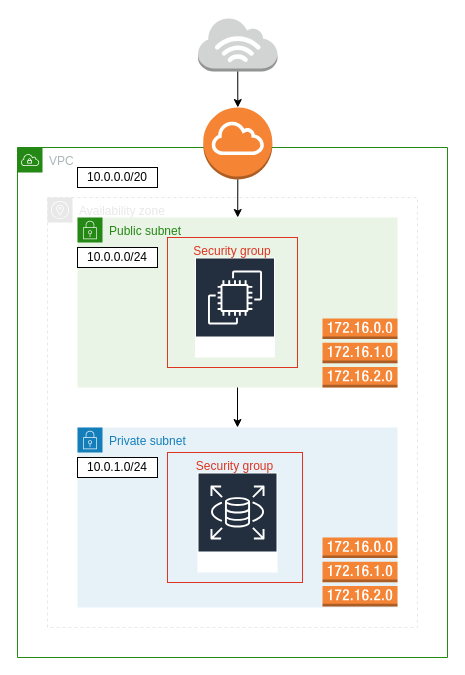
The diagram is 465 pixels wide and 675 high, and some of its shapes have lost their labels. The shapes that lost their labels are listed below. From the top down, each one's centre as x and y in pixels, then its label:
point 234,307: Amazon EC2
point 237,522: Amazon RDS
